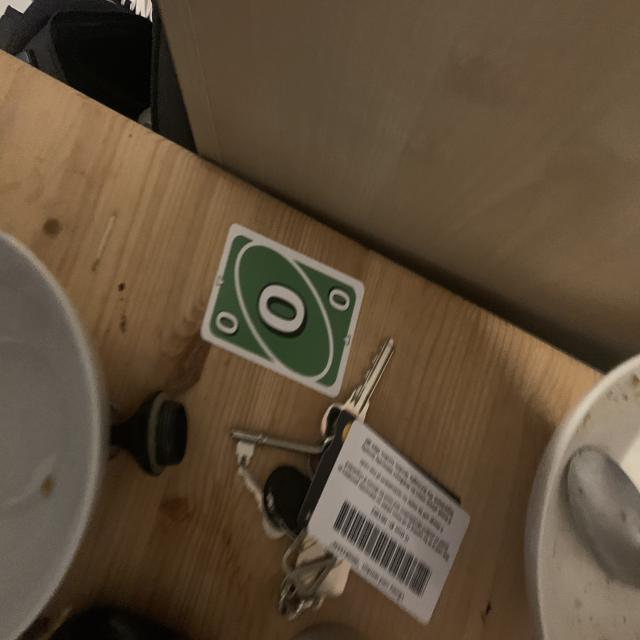lgreen-0: (210, 300, 242, 336)
